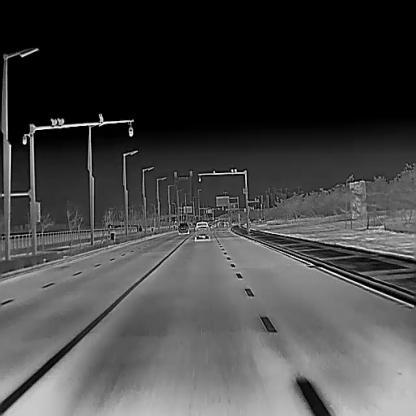car: (194, 220, 210, 240), (177, 221, 190, 233)
